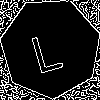L: (26, 23, 65, 74)
